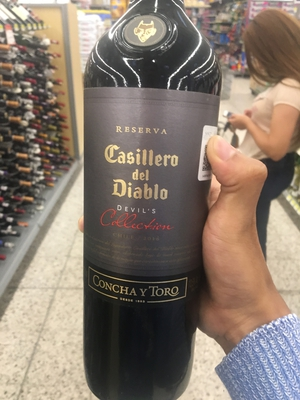casillero del diablo devils collection rojo: (83, 1, 224, 400)
